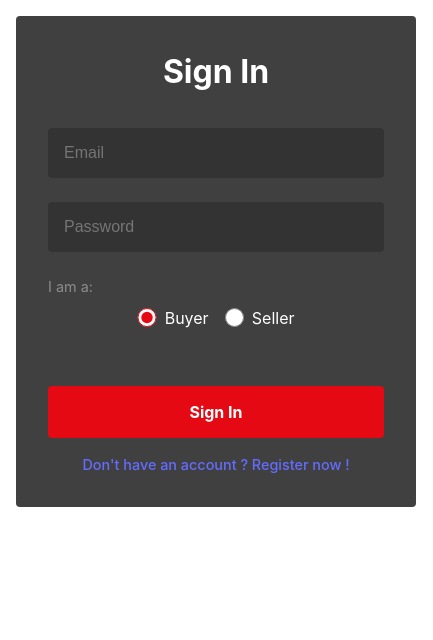
Scenario: Login Page › displays error message on failed login
In the field with placeholder "Email": x=216, y=153 [48, 128, 384, 178], type "wrong@test.com"
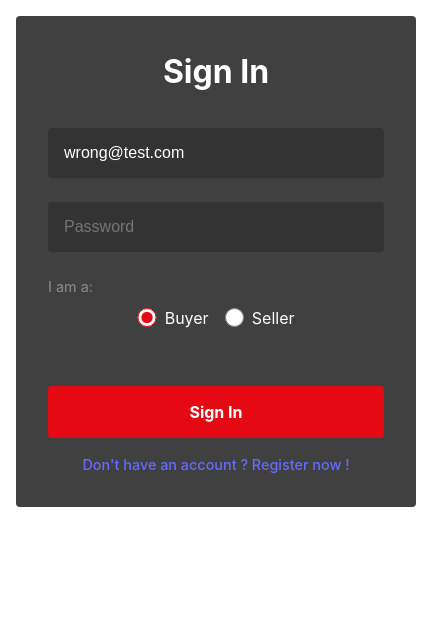
In the password field with placeholder "Password": x=216, y=227 [48, 202, 384, 252], type "wrongpass"
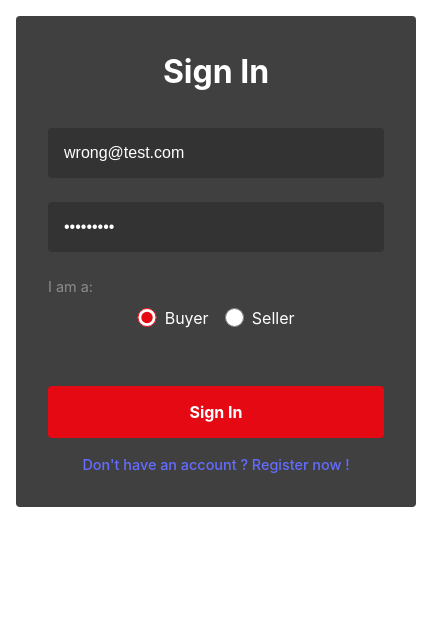
Click the button "Sign In": x=216, y=412 [48, 386, 384, 438]
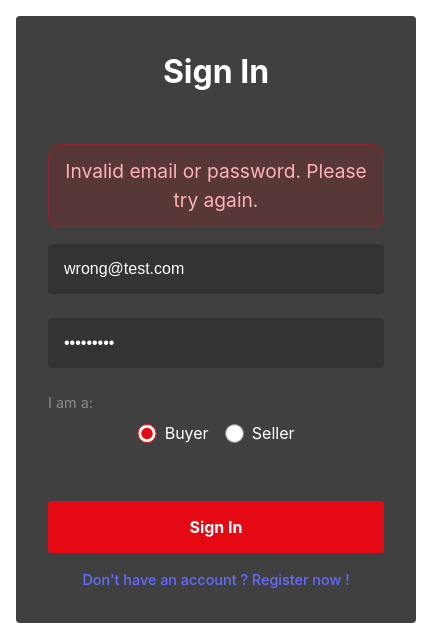
Now the text "Invalid email or password. Please try again." is shown, box [48, 144, 384, 228]
